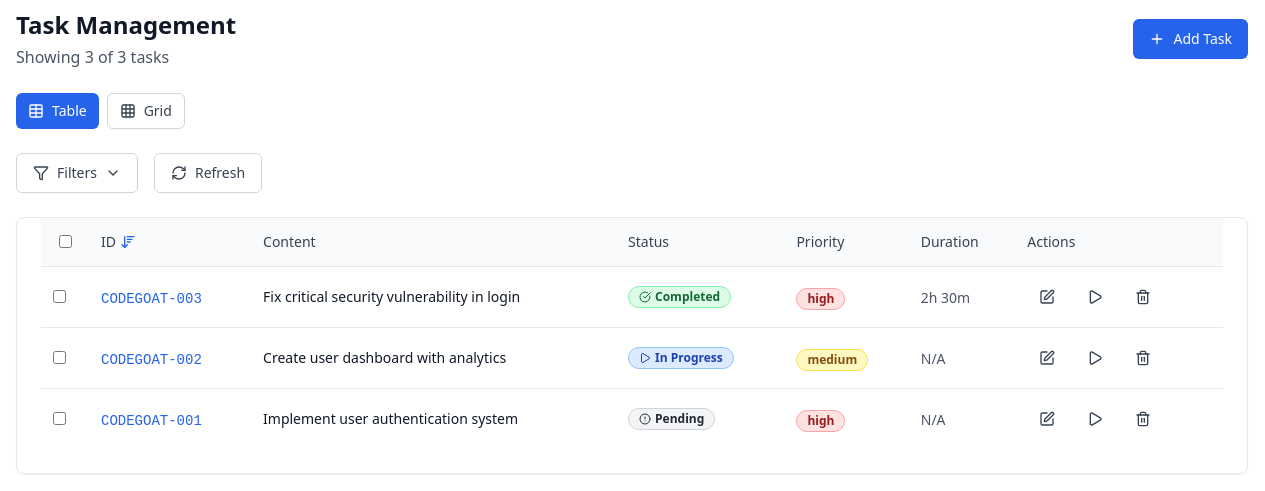
Test case: TaskManagement › Task Selection › selects all tasks
Expected: the text "CODEGOAT-001" is shown, left=101, top=413, right=202, bottom=429
Click the checkbox in the row of "Content" at [65, 242], box left=58, top=235, right=72, bottom=248
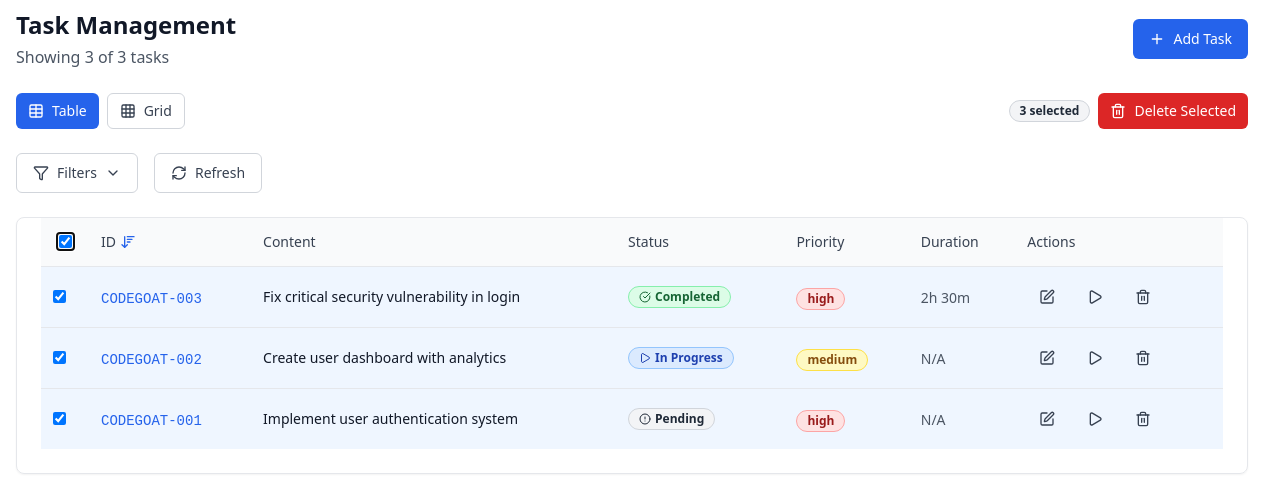
Now the text "3 selected" is shown, box left=1008, top=100, right=1090, bottom=122
